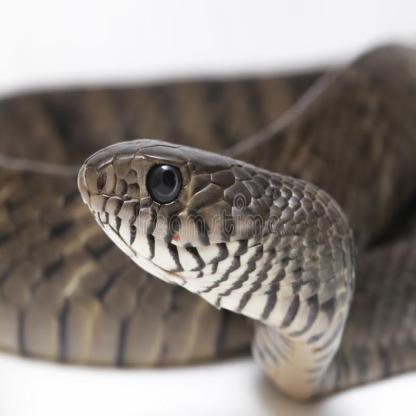snakes: (5, 37, 416, 402)
